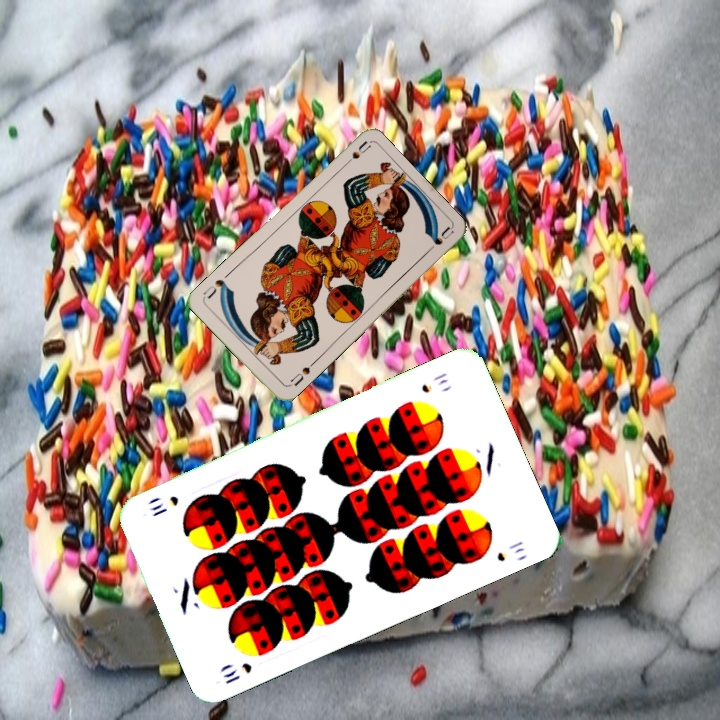S10: (219, 658, 255, 687), (417, 368, 451, 396)
SU: (338, 138, 372, 171), (286, 358, 317, 389)
